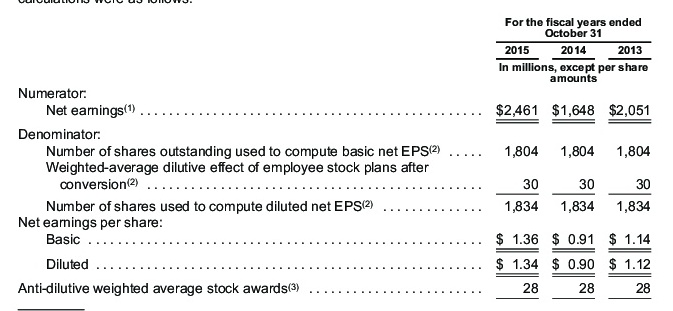table: (0, 0, 673, 311)
